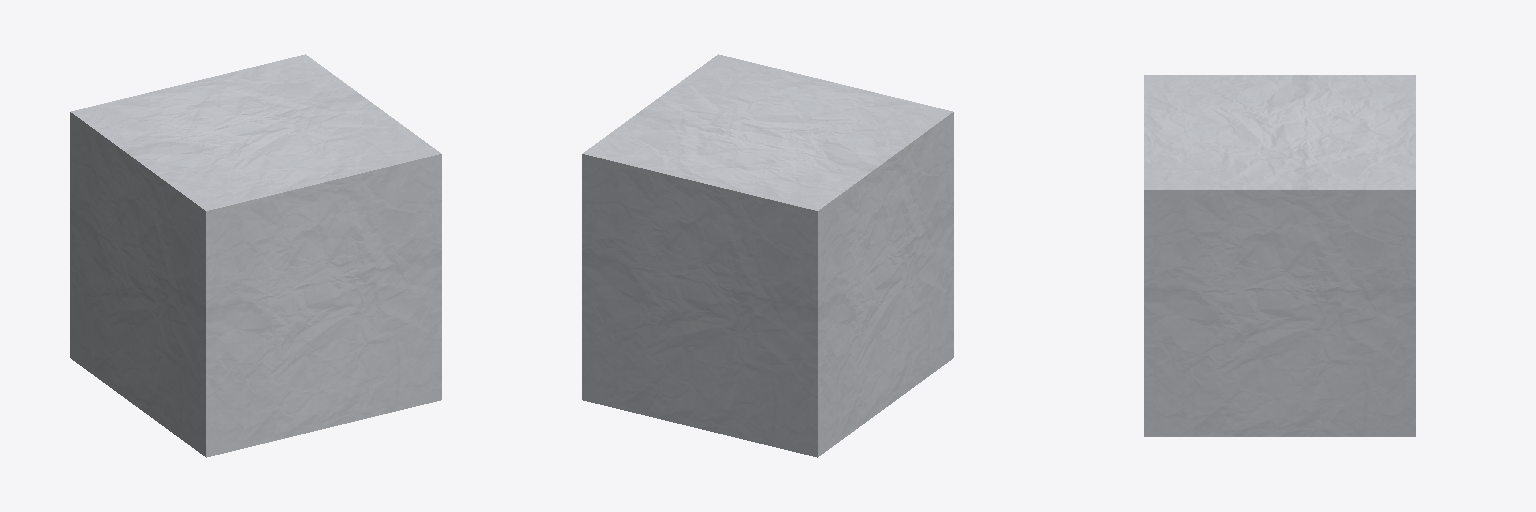
3 views of the same model, side by side, from view 1: azimuth 30°, elevation 25°; view 2: azimuth 150°, elevation 25°; view 3: azimuth 270°, elevation 25° (orthographic).
Visible parts, largest first — view 1: Box001; view 2: Box001; view 3: Box001.
Part boxes in pixels (bbox=[...]): Box001: bbox=[70, 54, 441, 457]; Box001: bbox=[582, 54, 953, 457]; Box001: bbox=[1144, 75, 1415, 436].
Bounding box in the file's own units: 1 × 1 × 1.
Materials: 1 (1 with a texture image).